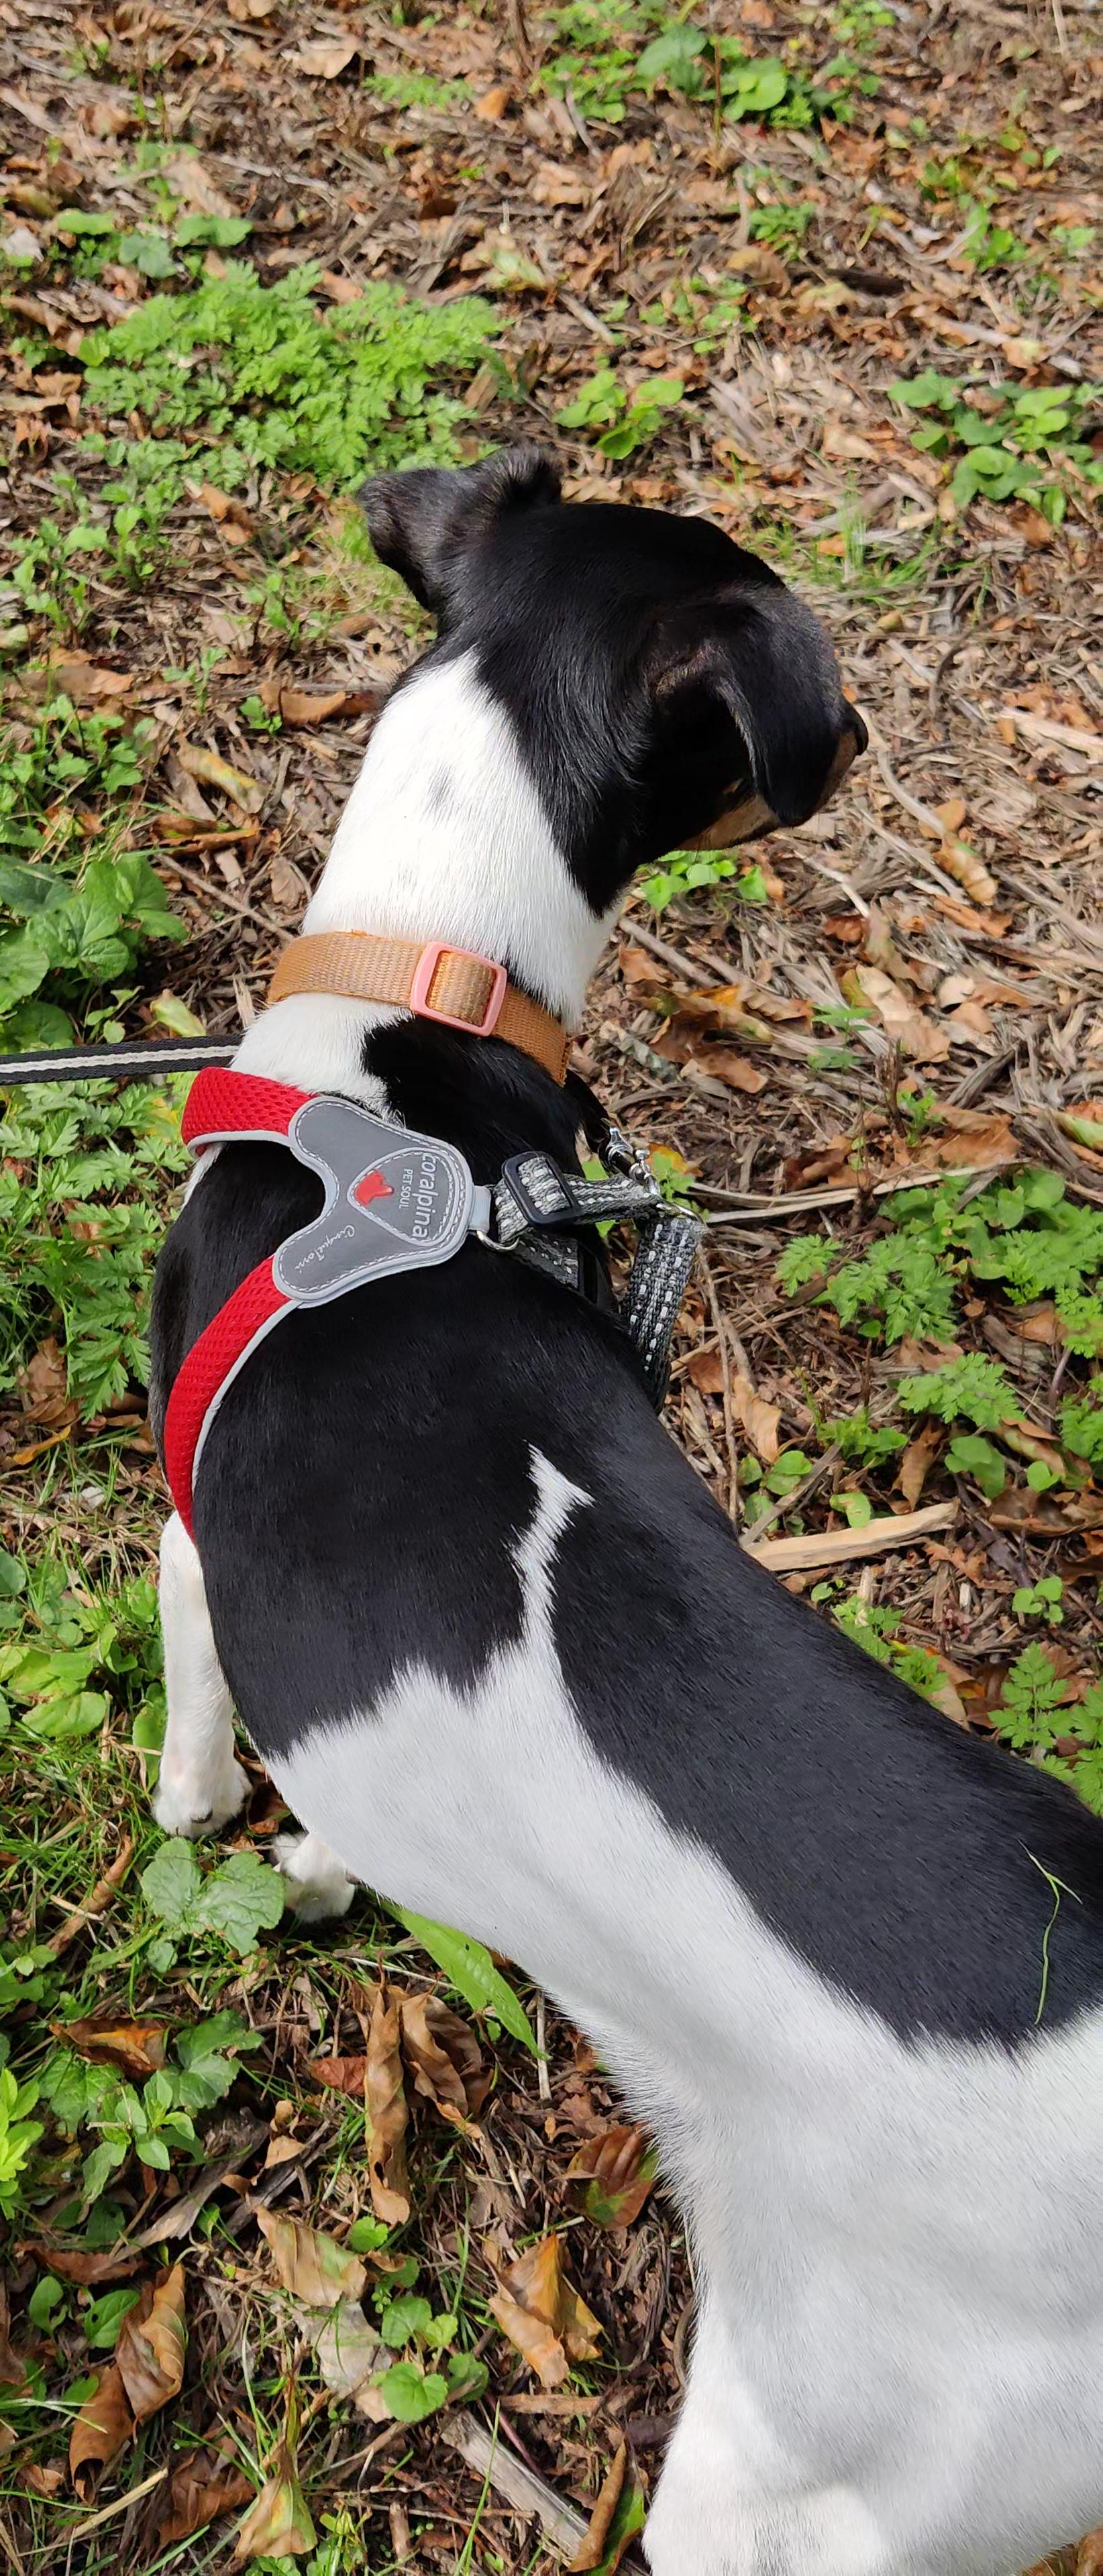Dog: (125, 434, 1103, 2576)
